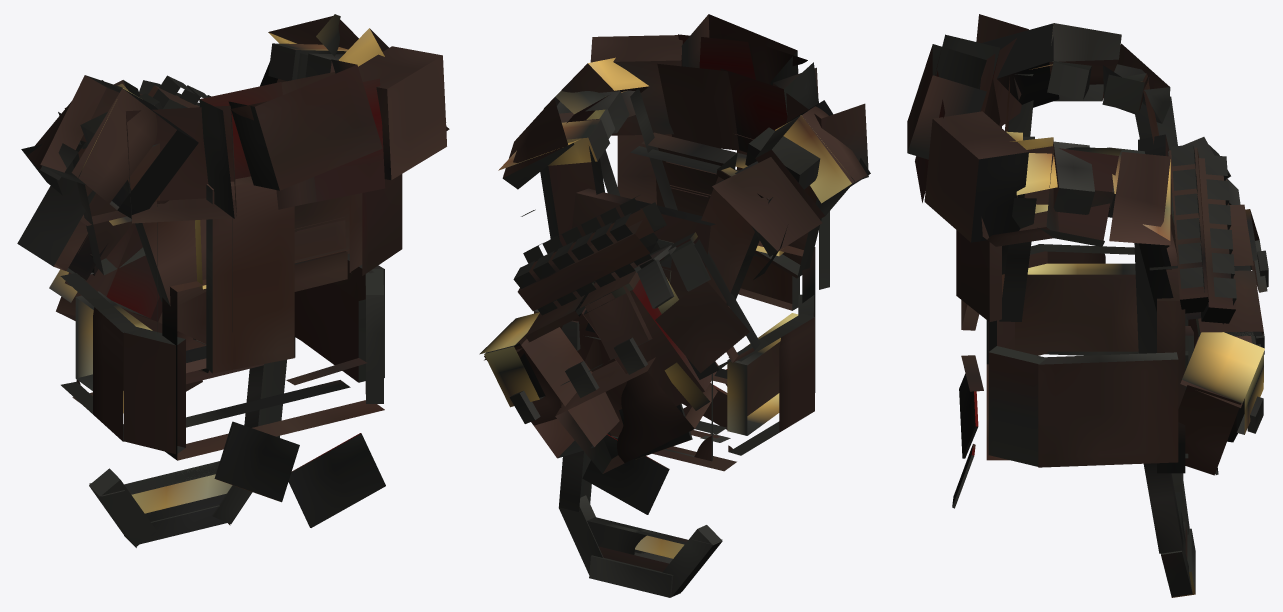
File: concord.obj
3 renders of one model, left to right at view 1: azimuth 30°, elevation 25°; view 2: azimuth 150°, elevation 25°; view 3: azimuth 270°, elevation 25°, orthographic. The views are drawn at different scales.
Visible parts, largest first — view 1: cube; view 2: cube; view 3: cube.
Boxes of the visible parts, x1,y1,x2,y2 form: cube: [17, 14, 449, 547]; cube: [479, 14, 870, 597]; cube: [907, 14, 1268, 597].
Bounding box in the file's own units: 0.9639 × 1.27 × 0.7962.
